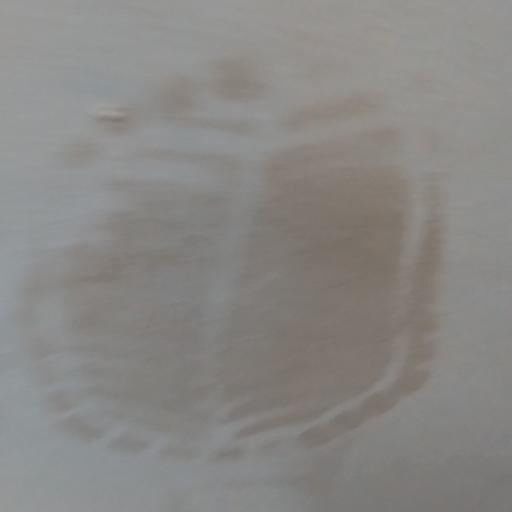stain: (25, 61, 468, 464)
